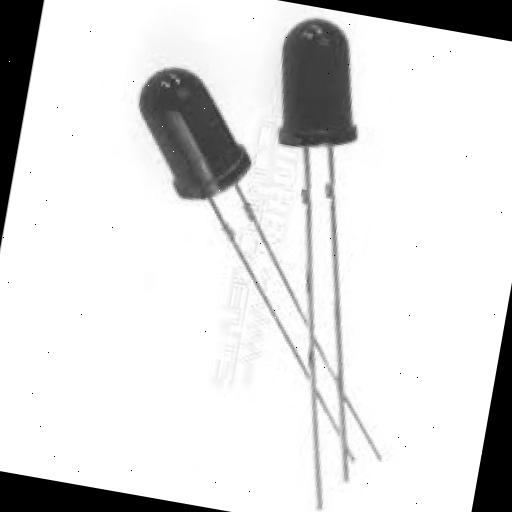LED: (186, 4, 456, 496), (82, 1, 292, 279)
